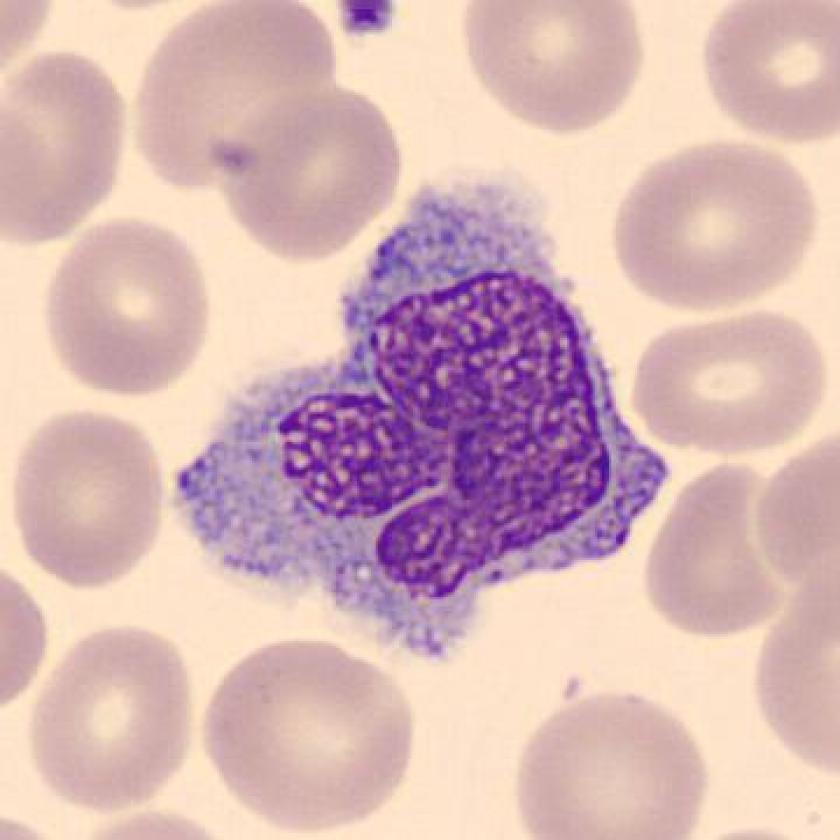monocyte: (155, 154, 682, 691)
